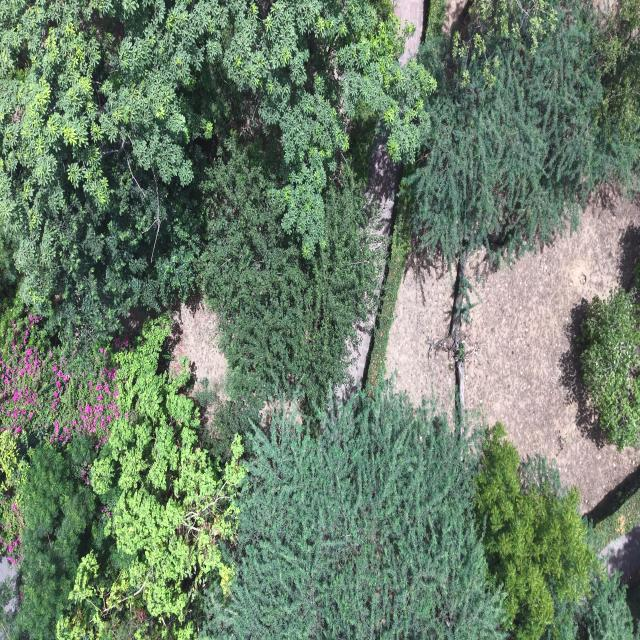DRY_AREA: (463, 190, 639, 511), (463, 191, 639, 511), (169, 300, 228, 437), (167, 293, 227, 423), (170, 301, 226, 425), (173, 302, 225, 398), (172, 302, 225, 389), (365, 134, 399, 241), (599, 523, 639, 583), (393, 0, 423, 64)
VEGETATION_TREE: (0, 0, 639, 639), (0, 1, 637, 353), (0, 316, 632, 639), (0, 0, 433, 351), (202, 387, 632, 639), (3, 317, 243, 639), (203, 389, 505, 639), (0, 1, 211, 352), (403, 0, 639, 260), (56, 320, 244, 639), (215, 1, 435, 255), (405, 1, 600, 259), (200, 137, 376, 419), (29, 159, 203, 356), (475, 424, 632, 639), (0, 309, 119, 564), (475, 423, 596, 639), (2, 436, 104, 639), (0, 312, 118, 440), (580, 262, 639, 449), (365, 192, 410, 389), (596, 0, 639, 193), (561, 576, 636, 639), (591, 471, 639, 551), (0, 430, 27, 565), (0, 236, 18, 304), (626, 583, 640, 637)
